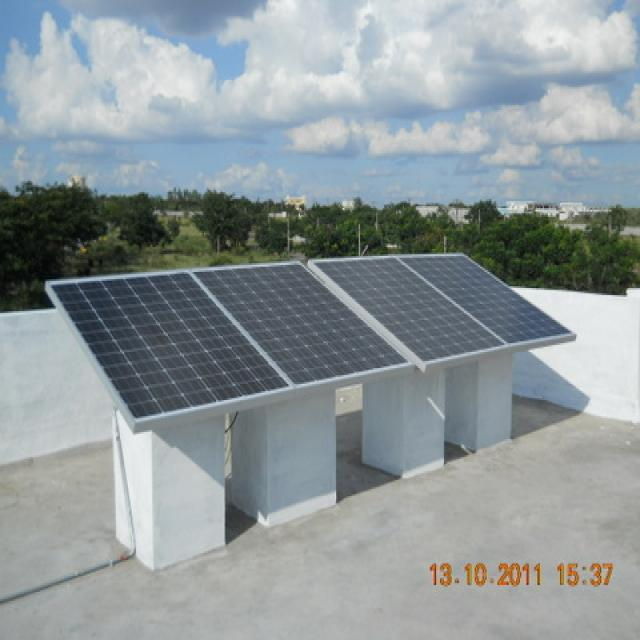no faulty: (51, 273, 293, 420), (204, 267, 408, 385), (405, 254, 566, 352)
